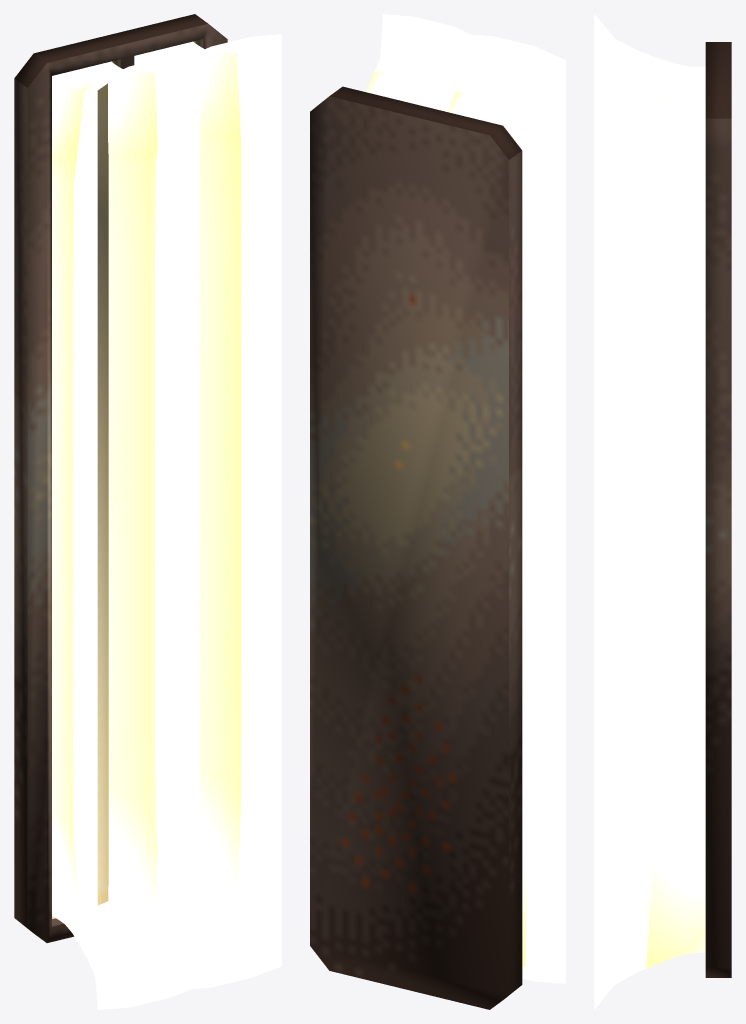
The model's file is LightPanel_White.fbx.
3 views of the same model, side by side, from view 1: azimuth 30°, elevation 25°; view 2: azimuth 150°, elevation 25°; view 3: azimuth 270°, elevation 25° (orthographic). The views are drawn at different scales.
Visible parts, largest first — view 1: LightEmission, LightEmission.001, Frame_WhiteLight; view 2: Frame_WhiteLight, LightEmission, LightEmission.001; view 3: LightEmission.001, Frame_WhiteLight, LightEmission.
Part boxes in pixels (x1,y1,x2,y2): LightEmission: (52,54,199,1009); LightEmission.001: (134,34,281,989); Frame_WhiteLight: (14,14,227,942); Frame_WhiteLight: (310,86,522,1009); LightEmission: (447,34,565,983); LightEmission.001: (366,14,470,111); LightEmission.001: (594,57,705,1009); Frame_WhiteLight: (705,42,731,977); LightEmission: (594,14,705,105).
Size of the model in its own units: 102 by 458 by 61.99.
